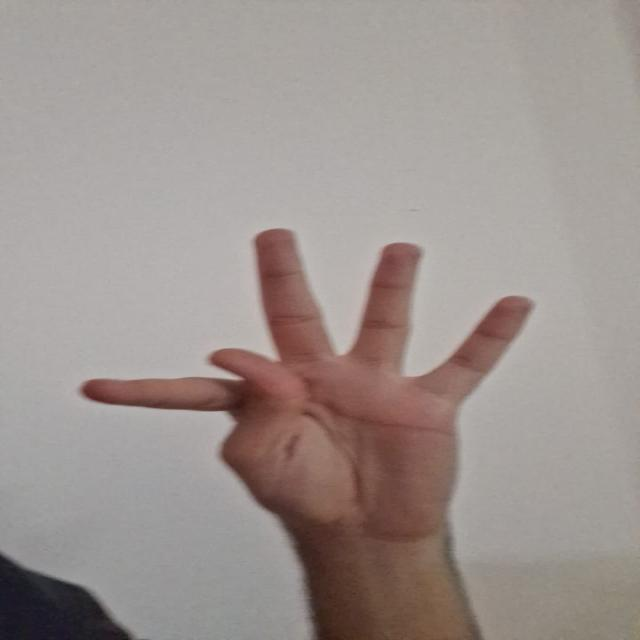T: (65, 222, 558, 541)
